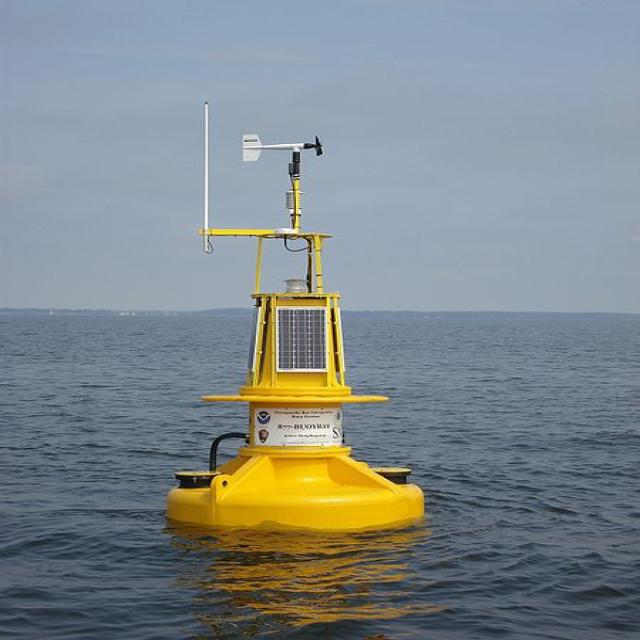marque: (155, 88, 442, 543)
